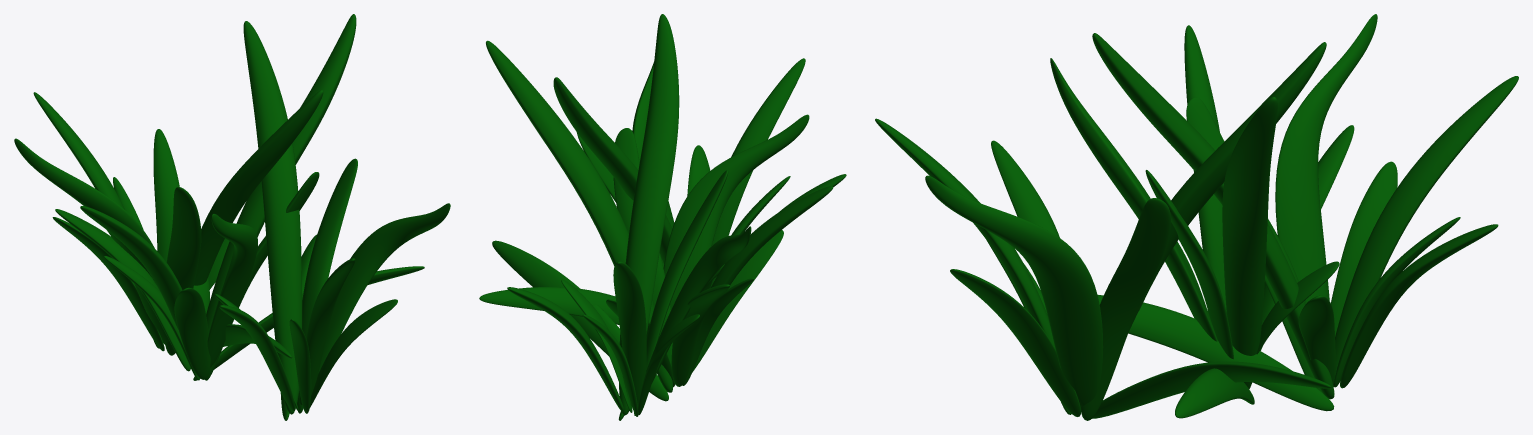
File: arbustaco.fbx
3 views of the same model, side by side, from view 1: azimuth 30°, elevation 25°; view 2: azimuth 150°, elevation 25°; view 3: azimuth 270°, elevation 25° (orthographic). The views are drawn at different scales.
Parts seen in each view (by area): view 1: herba.002; view 2: herba.002; view 3: herba.002.
Boxes of the visible parts, x1,y1,x2,y2 form: herba.002: (14, 14, 450, 420); herba.002: (479, 14, 846, 420); herba.002: (875, 14, 1518, 420).
Size of the model in its own units: 958 by 862 by 1230.
